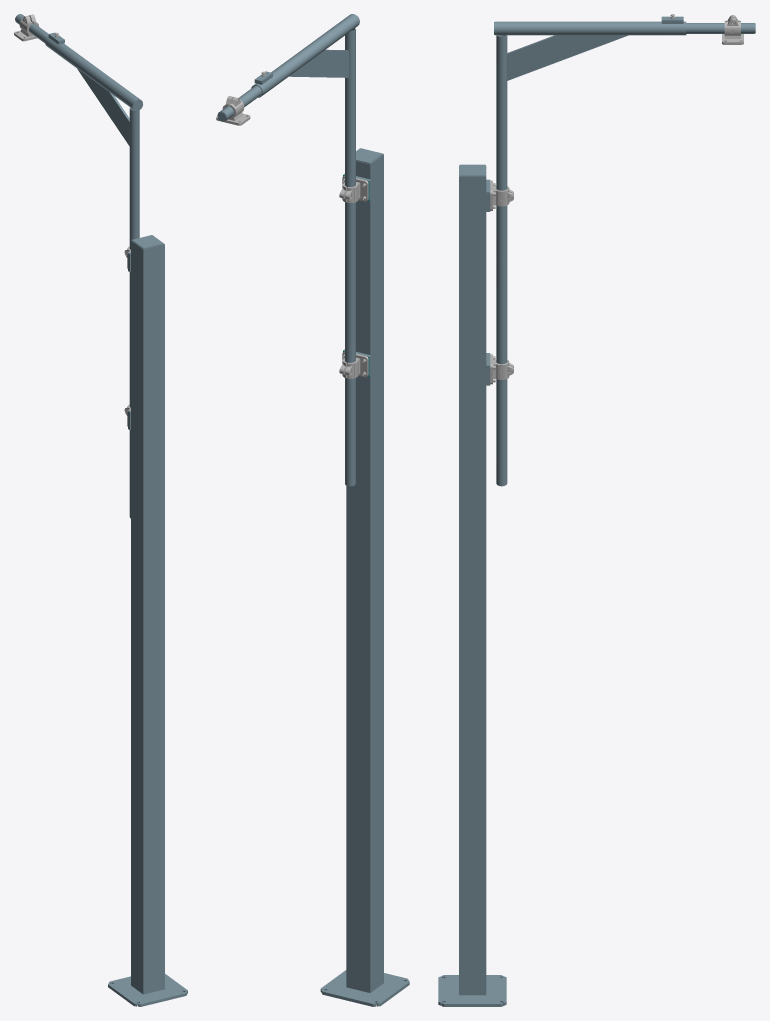
3 views of the same model, side by side, from view 1: azimuth 30°, elevation 25°; view 2: azimuth 150°, elevation 25°; view 3: azimuth 270°, elevation 25° (orthographic). The views are drawn at different scales.
Visible parts, largest first — view 1: F36529100530800000000_staender_schlauchpaket_L2300_A950_H575 (×2); view 2: F36529100530800000000_staender_schlauchpaket_L2300_A950_H575 (×2); view 3: F36529100530800000000_staender_schlauchpaket_L2300_A950_H575 (×2).
Boxes of the visible parts, box(x1,y1,x2,y2) form: F36529100530800000000_staender_schlauchpaket_L2300_A950_H575 (×2): box(14, 14, 187, 1006); F36529100530800000000_staender_schlauchpaket_L2300_A950_H575 (×2): box(216, 14, 409, 1006); F36529100530800000000_staender_schlauchpaket_L2300_A950_H575 (×2): box(438, 14, 755, 1006).
Bounding box in the file's own units: 250 × 1160 × 3944.
